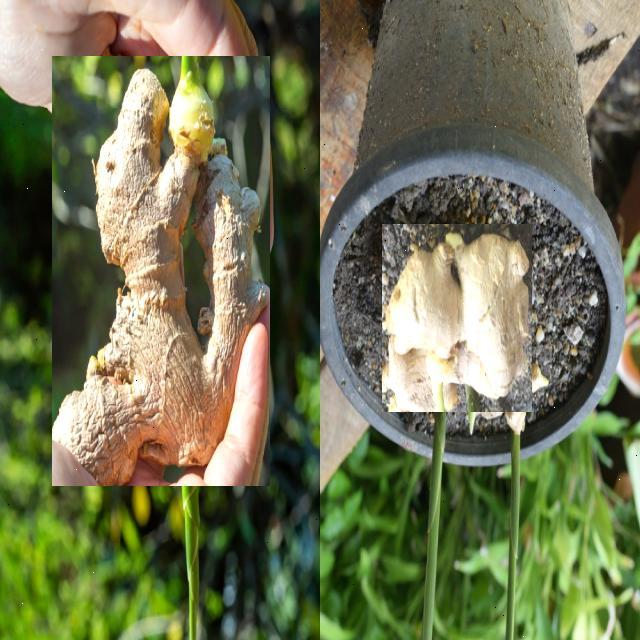ginger: (52, 56, 270, 486), (382, 224, 532, 412)
